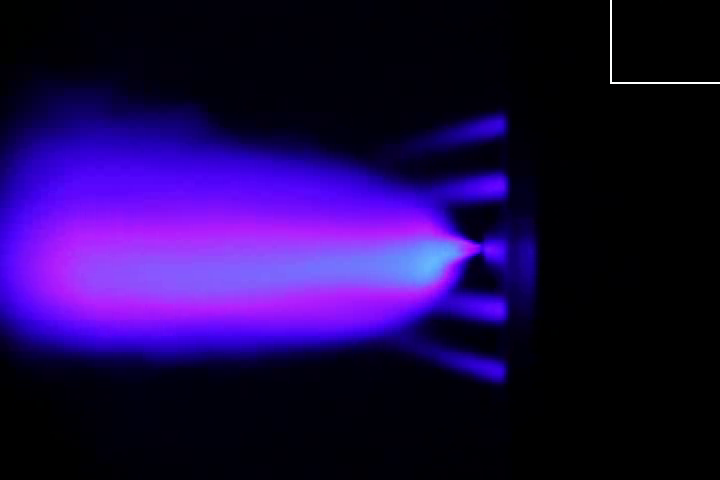burner cap: (479, 233, 513, 268)
pilot flame: (380, 103, 511, 153), (405, 337, 506, 387), (432, 290, 509, 329), (423, 167, 508, 202)
stable: (26, 175, 475, 324)
